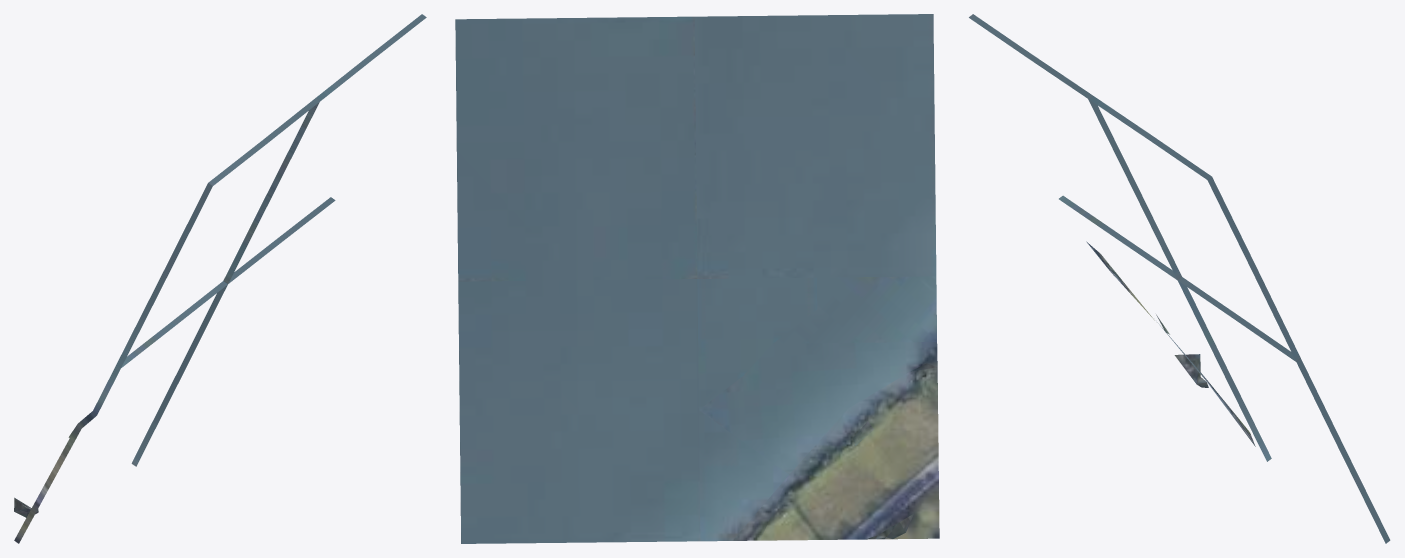
3 views of the same model, side by side, from view 1: azimuth 30°, elevation 25°; view 2: azimuth 150°, elevation 25°; view 3: azimuth 270°, elevation 25° (orthographic). The views are drawn at different scales.
Size of the model in its own units: 154 by 139 by 129.
Materials: 1 (1 with a texture image).
